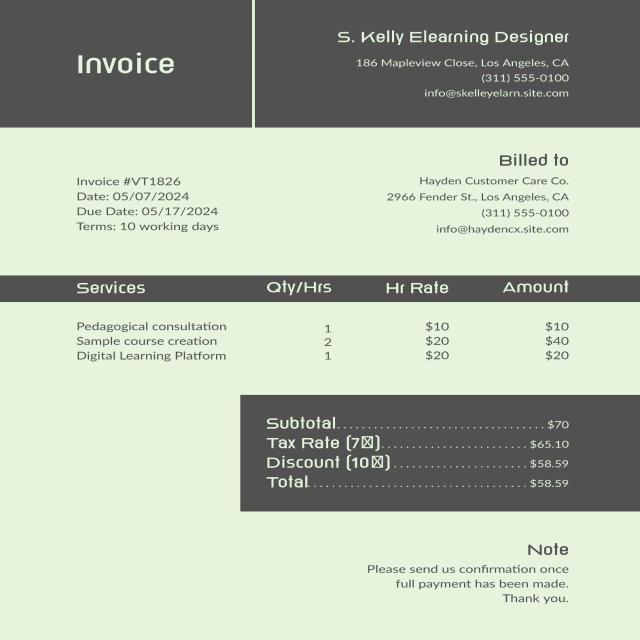ROI: (15, 274, 636, 376), (240, 390, 626, 526), (324, 6, 602, 110), (364, 148, 596, 242), (348, 537, 598, 617), (43, 32, 215, 103), (60, 171, 228, 188), (65, 220, 233, 235), (64, 205, 232, 218), (62, 190, 230, 202)
